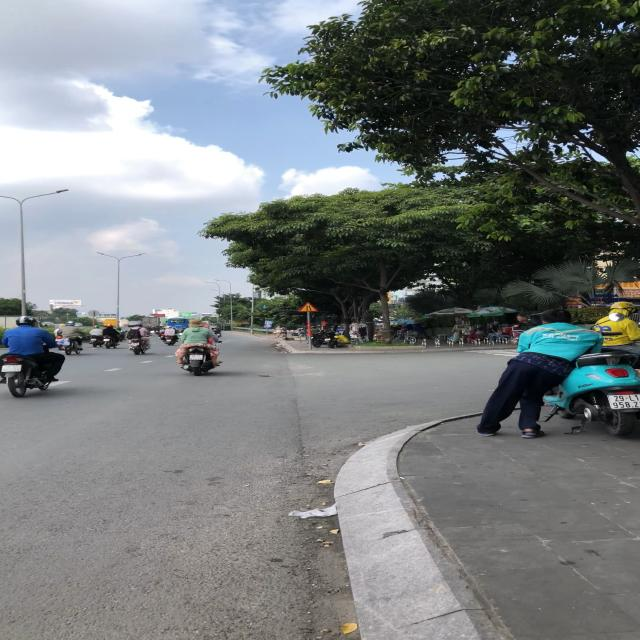Bien bao duong bi thu hep: (298, 302, 319, 312)
